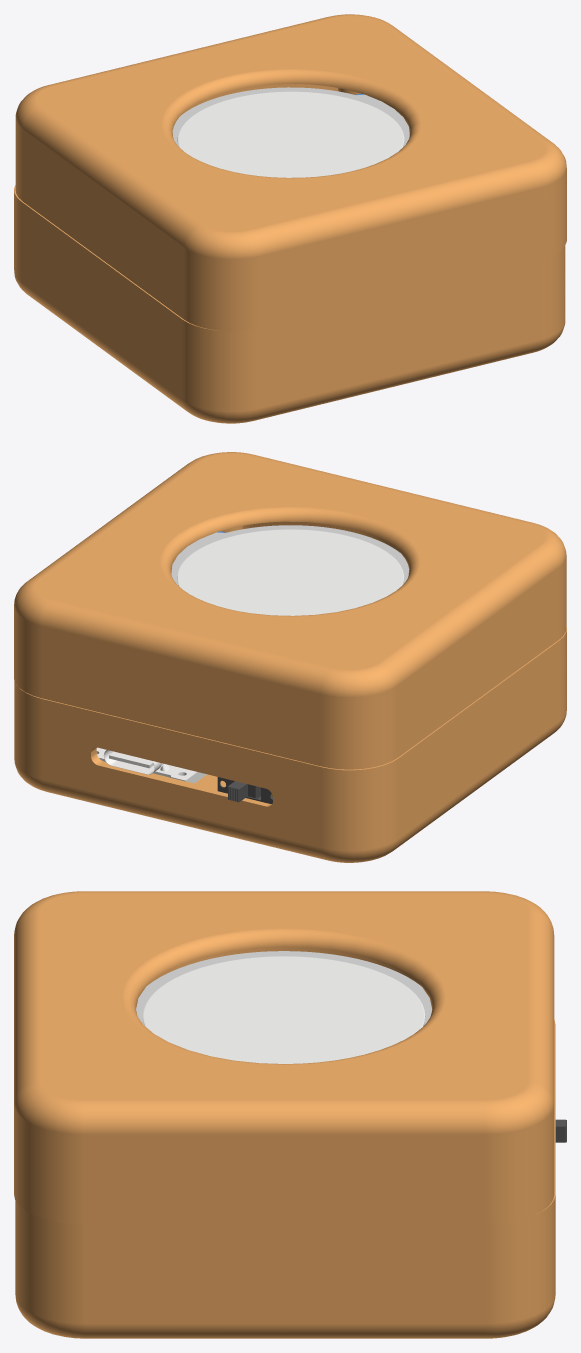
The model's file is cap.glb.
3 views of the same model, one above another, from view 1: azimuth 30°, elevation 25°; view 2: azimuth 150°, elevation 25°; view 3: azimuth 270°, elevation 25° (orthographic). The views are drawn at different scales.
Visible parts, largest first — view 1: top, bottom, Body6.001, LCd; view 2: top, bottom, Body6.001, LCd, Body1.017, Body9.003, board.001; view 3: top, bottom, Body6.001, LCd.
Boxes of the visible parts, left/top/right/bottom form: top: left=15, top=14, right=566, bottom=331; bottom: left=14, top=185, right=565, bottom=423; Body6.001: left=178, top=91, right=404, bottom=177; LCd: left=172, top=87, right=409, bottom=146; top: left=14, top=452, right=566, bottom=769; bottom: left=14, top=627, right=566, bottom=862; Body6.001: left=177, top=529, right=403, bottom=615; LCd: left=171, top=525, right=409, bottom=585; Body1.017: left=103, top=750, right=163, bottom=774; Body9.003: left=228, top=781, right=260, bottom=802; board.001: left=96, top=747, right=206, bottom=783; top: left=14, top=891, right=554, bottom=1224; bottom: left=15, top=1019, right=555, bottom=1338; Body6.001: left=143, top=956, right=424, bottom=1063; LCd: left=136, top=951, right=432, bottom=1026.
Bounding box in the file's own units: 0.0622 × 0.03 × 0.0635.
